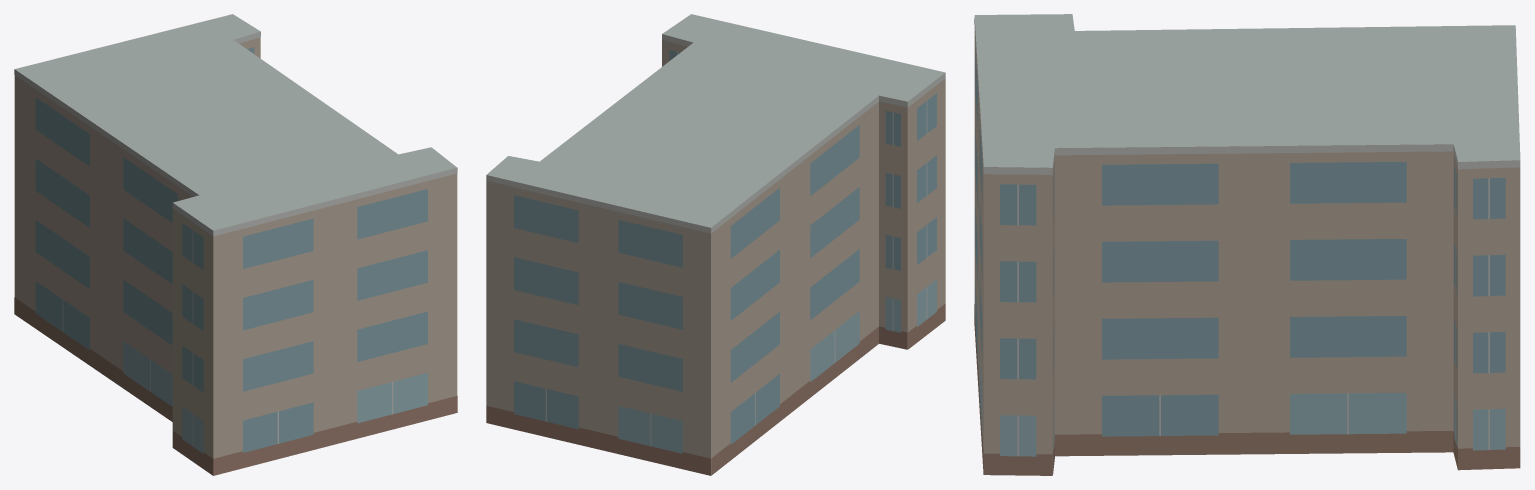
Rendered from survey-upis-32803785.glb.
3 renders of one model, left to right at view 1: azimuth 30°, elevation 25°; view 2: azimuth 150°, elevation 25°; view 3: azimuth 270°, elevation 25°, orthographic. The views are drawn at different scales.
Parts seen in each view (by area): view 1: survey-upis-32803785.tmp; view 2: survey-upis-32803785.tmp; view 3: survey-upis-32803785.tmp.
Boxes of the visible parts, x1=… form: survey-upis-32803785.tmp: x1=14, y1=14, x2=457, y2=475; survey-upis-32803785.tmp: x1=486, y1=14, x2=945, y2=475; survey-upis-32803785.tmp: x1=974, y1=14, x2=1520, y2=475.
Size of the model in its own units: 11.26 by 10.5 by 16.88.
